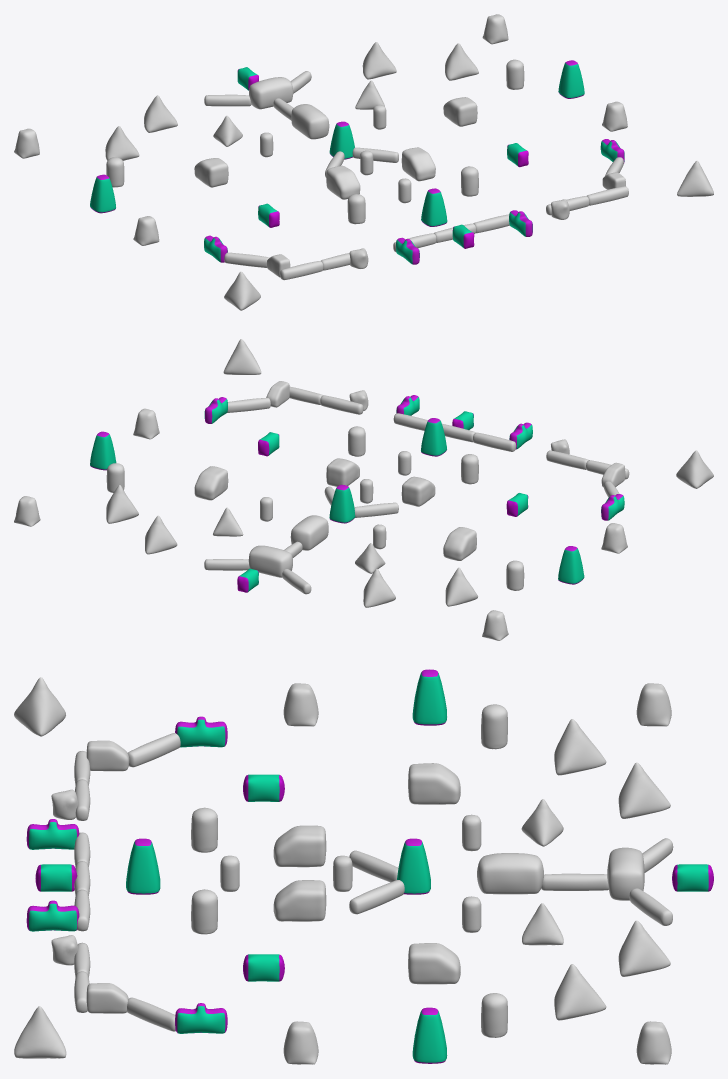
Rendered from VPL Tourniment 24.fbx.
The picture shows the model from 3 angles, top to bottom: view 1: azimuth 30°, elevation 25°; view 2: azimuth 150°, elevation 25°; view 3: azimuth 270°, elevation 25°; orthographic projection. The views are drawn at different scales.
Visible parts, largest first — view 1: Bus_L.001; view 2: Bus_L.001; view 3: Bus_L.001.
Boxes of the visible parts, box(x1,y1,x2,y2) form: Bus_L.001: box(14, 14, 713, 310); Bus_L.001: box(14, 339, 713, 640); Bus_L.001: box(14, 669, 713, 1064).
Bounding box in the file's own units: 3952 × 254 × 3312.
